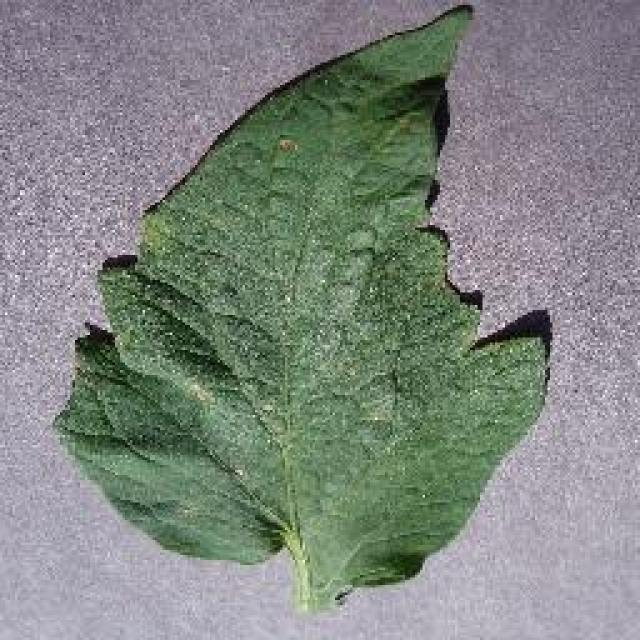Tomato Septoria spot leaf: (51, 2, 551, 620)
